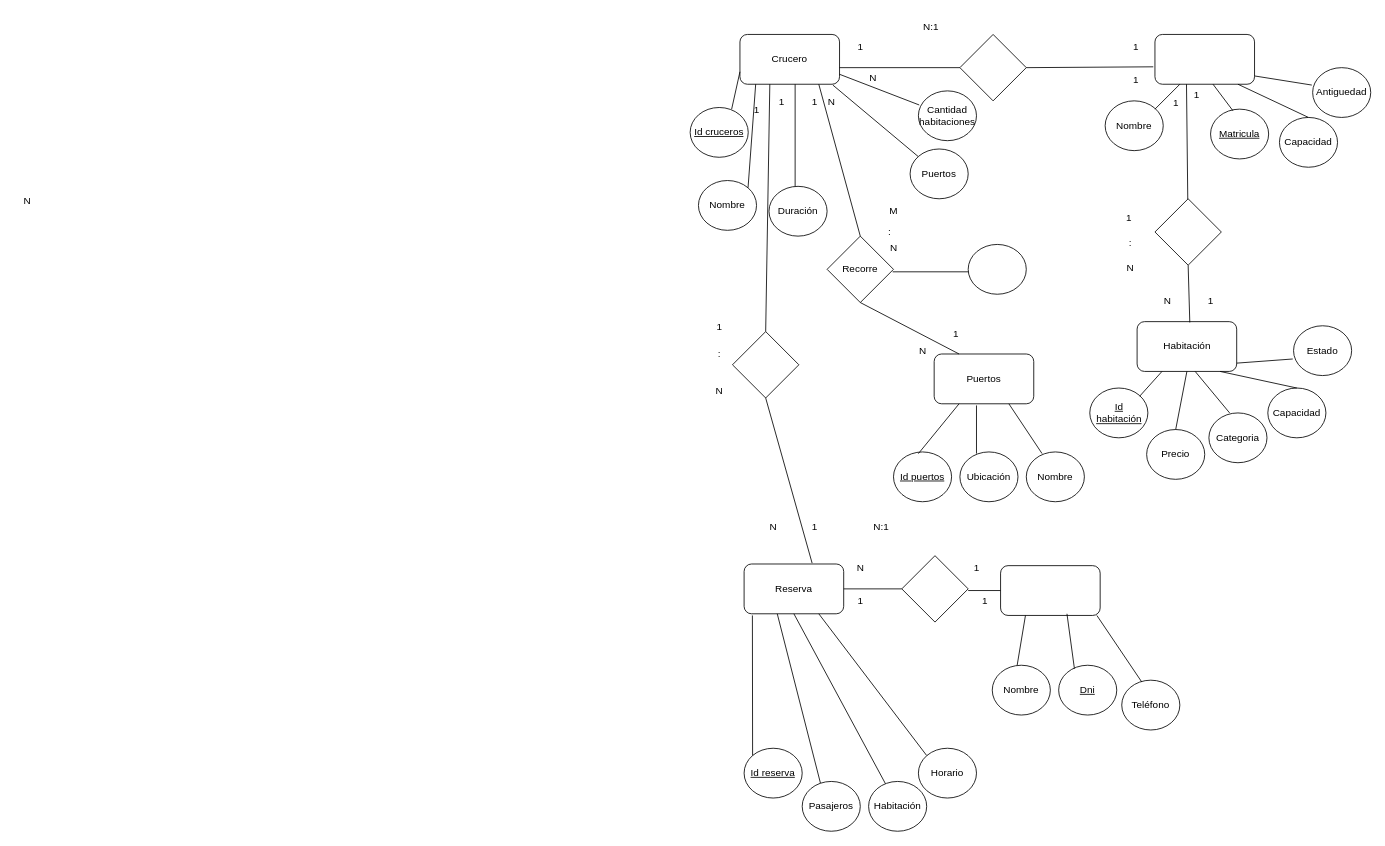
Image size: 1385x846. Some labels were removed from this diagram. The centre of each missing label's shape, as x and y in pixels:
"Asignada" belongs at (x=992, y=67).
"Contrata" belongs at (x=765, y=364).
"Embarcacion" belongs at (x=1204, y=59).
"Fecha arribo" belongs at (x=996, y=269).
"Hace" belongs at (x=934, y=588).
"Pasajero" belongs at (x=1050, y=590).
"Tiene" belongs at (x=1187, y=231).
